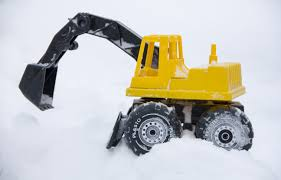excavator: (17, 9, 257, 156)
